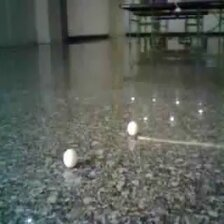w: (63, 148, 78, 166), (127, 121, 139, 135)
